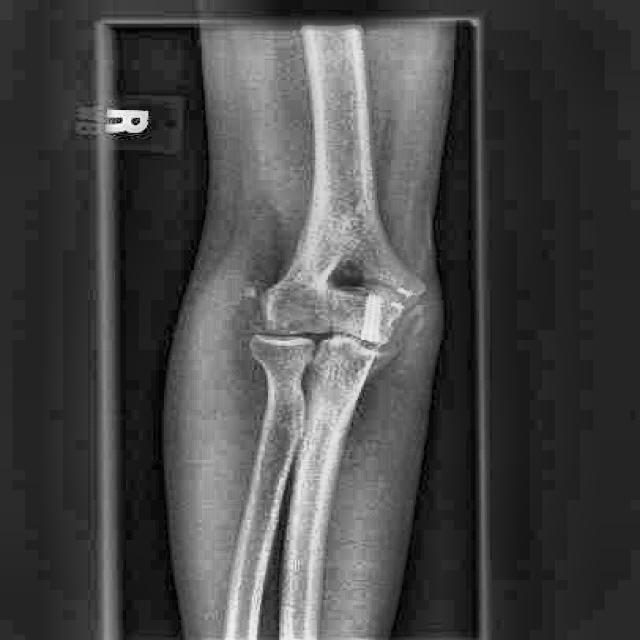elbow positive: (379, 294, 439, 352)
